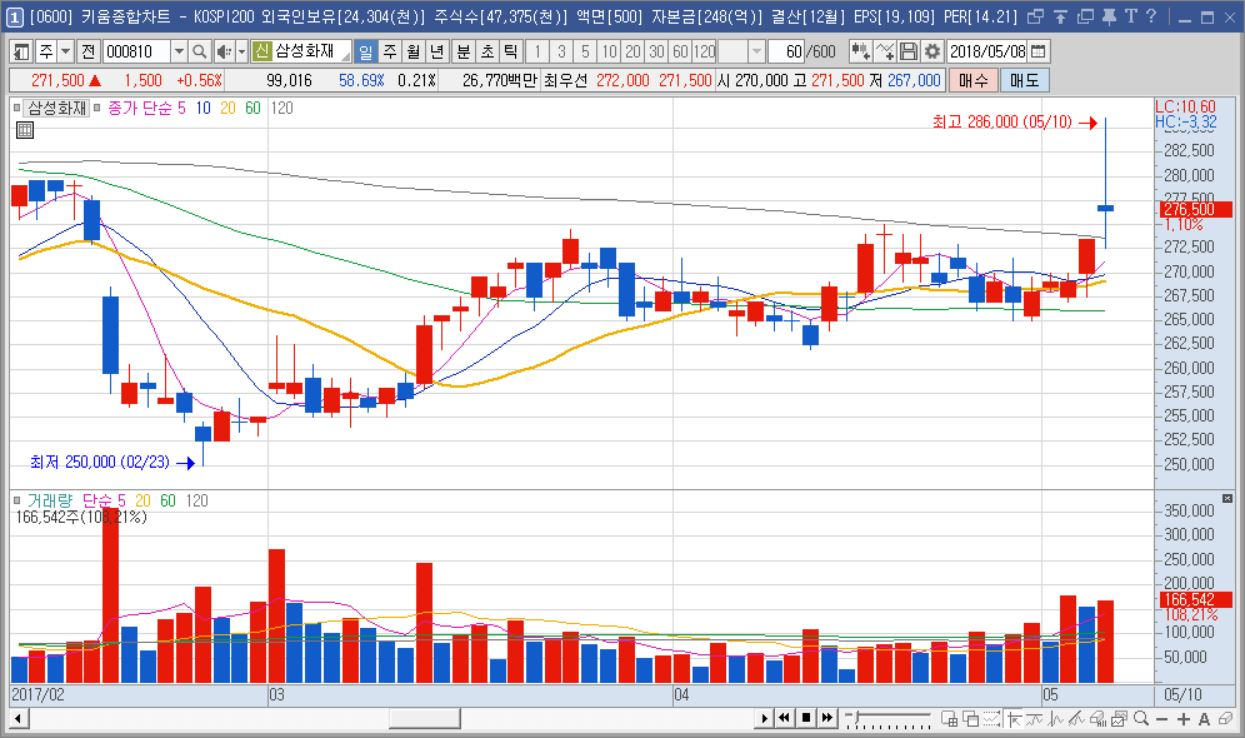up: (195, 108, 1114, 678)
